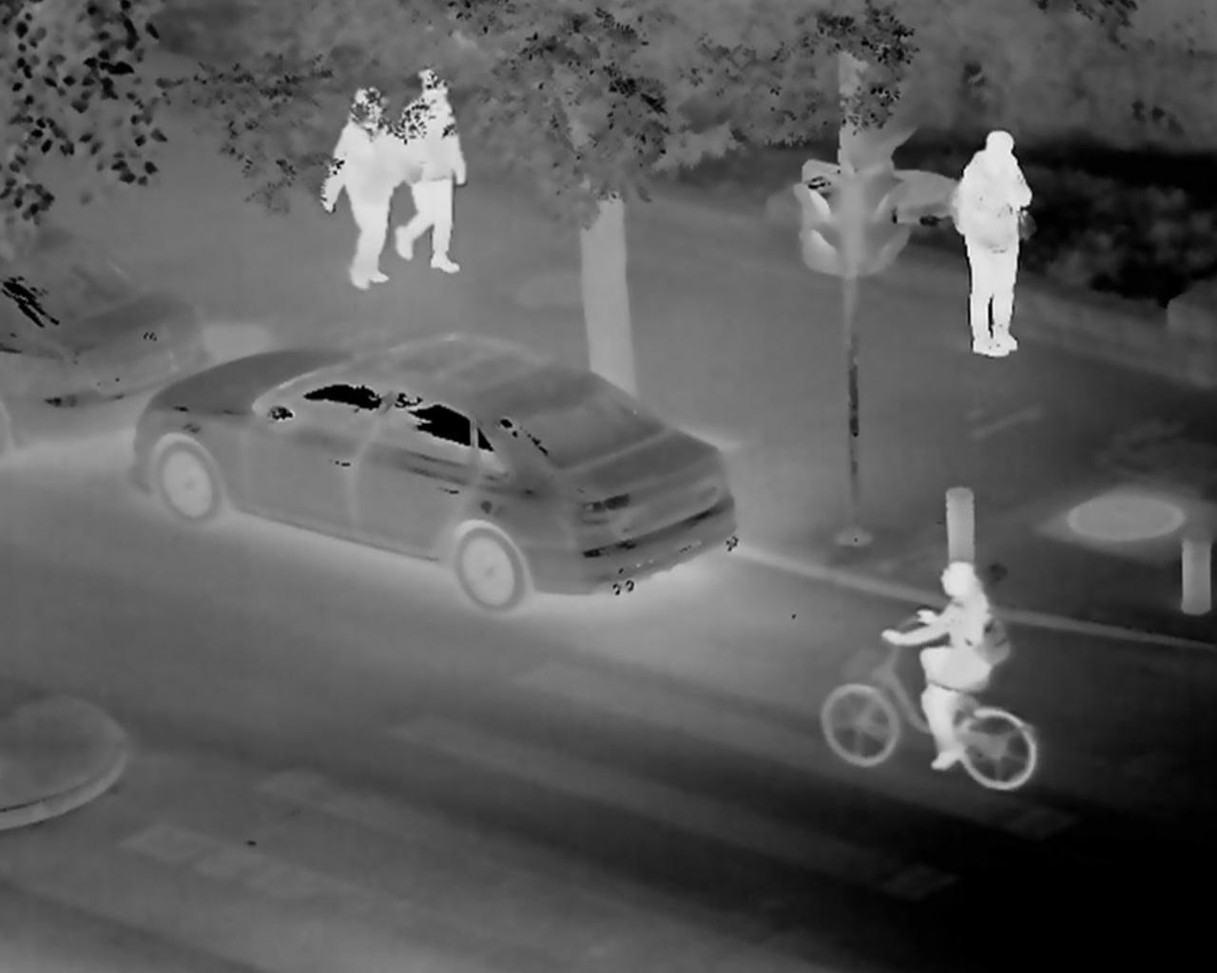person: (879, 549, 1012, 787), (309, 70, 414, 287), (942, 118, 1035, 360), (384, 48, 473, 282)
